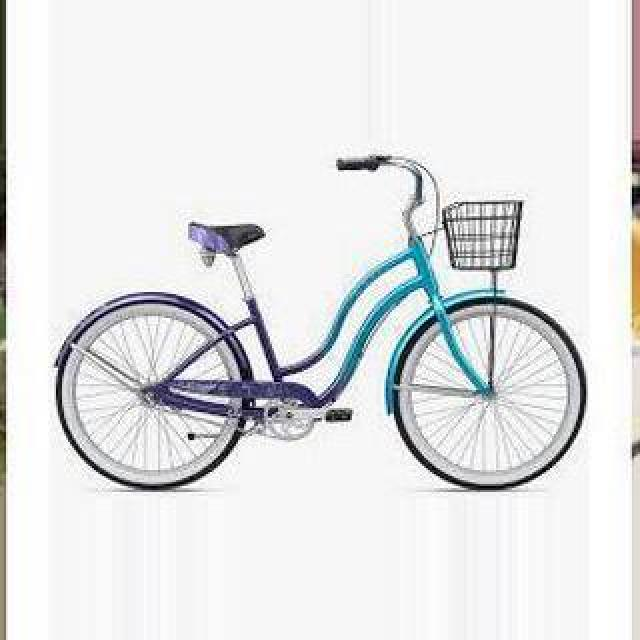Person: (52, 150, 588, 494)
